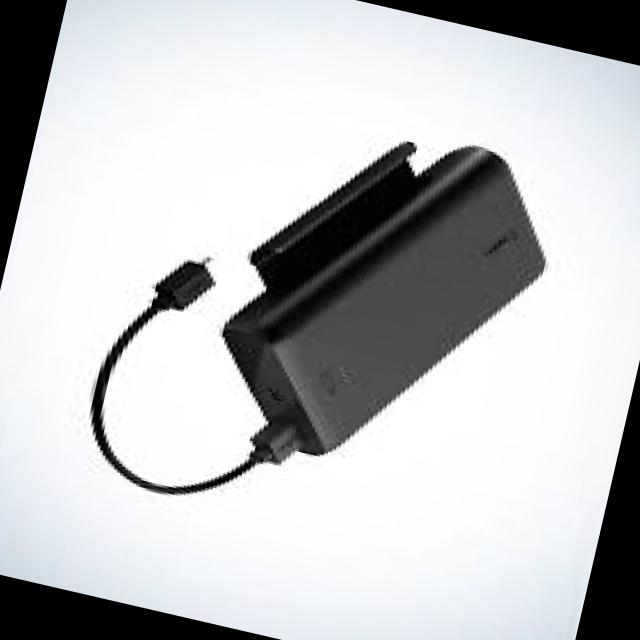portable-charger: (190, 95, 573, 504)
